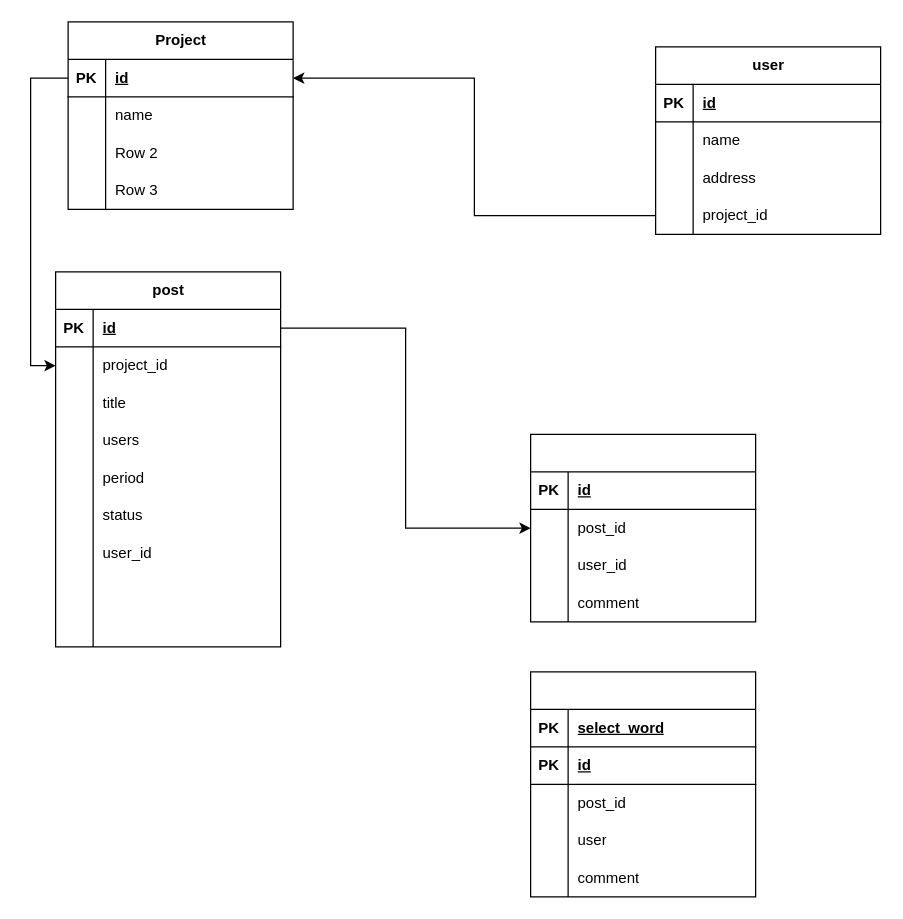
This 903x919 diagram has some shape labels left out. The box of each missing label's shape, as (x1, y1, x2, y2) in pixels:
postComment: (529, 433, 756, 622)
selectList: (529, 671, 756, 897)
